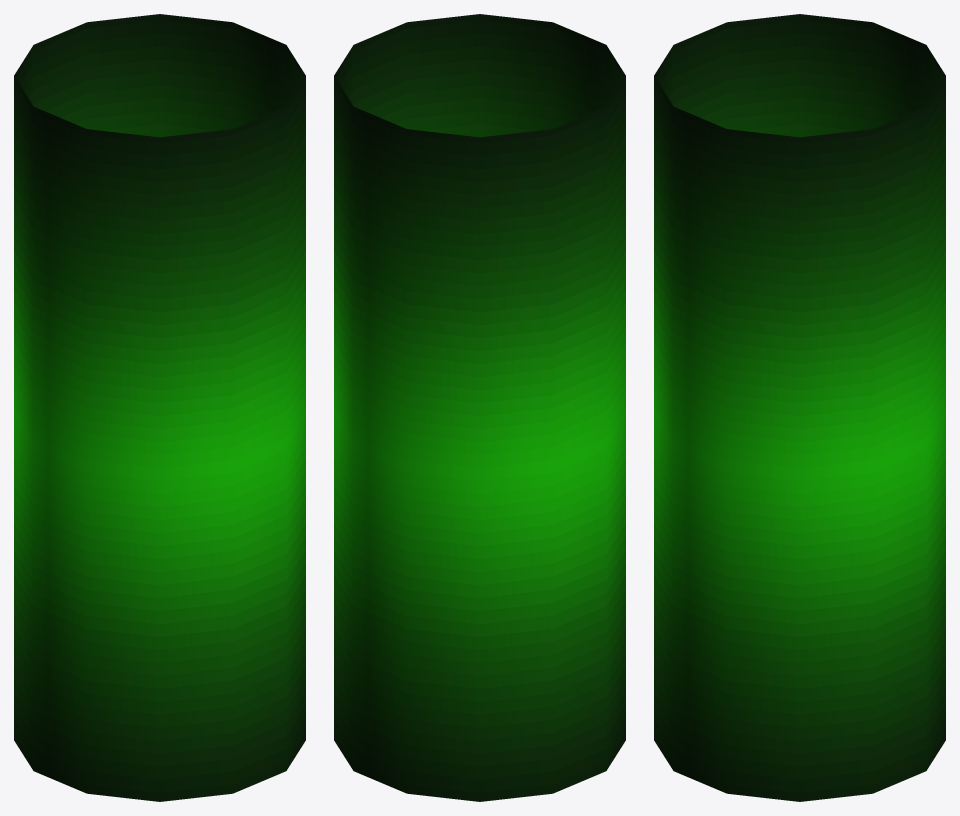
The model's file is MarkerVertical.FBX.
The picture shows the model from 3 angles, left to right: view 1: azimuth 30°, elevation 25°; view 2: azimuth 150°, elevation 25°; view 3: azimuth 270°, elevation 25°; orthographic projection.
Parts seen in each view (by area): view 1: Cylinder001; view 2: Cylinder001; view 3: Cylinder001.
Part boxes in pixels (x1,y1,x2,y2): Cylinder001: (14,14,305,801); Cylinder001: (334,14,625,801); Cylinder001: (654,14,945,801).
Bounding box in the file's own units: 76.05 × 191 × 76.05.
